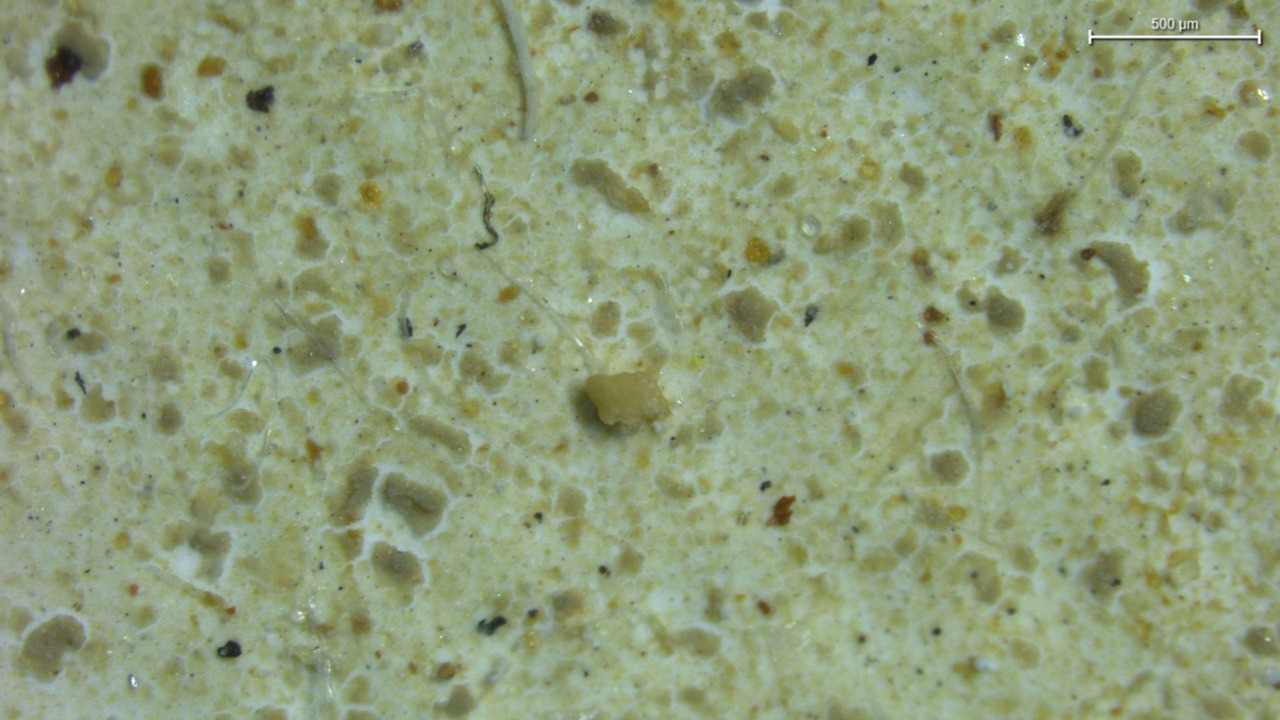microplastic_fragment: (585, 371, 670, 426)
